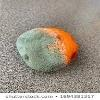Orange Rotten: (14, 22, 82, 77)
